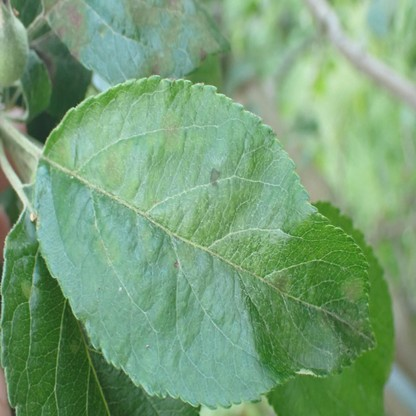frogeye_leaf_spot: (174, 260, 178, 268)
scab: (57, 0, 88, 59), (186, 12, 219, 64), (101, 143, 132, 187), (122, 0, 160, 27), (93, 223, 118, 264), (143, 46, 175, 78), (141, 165, 162, 208), (160, 109, 181, 151), (163, 16, 184, 43), (343, 279, 363, 304), (271, 267, 291, 291), (139, 222, 151, 258), (21, 280, 39, 301), (158, 0, 185, 14), (69, 339, 78, 356), (99, 26, 106, 35)
